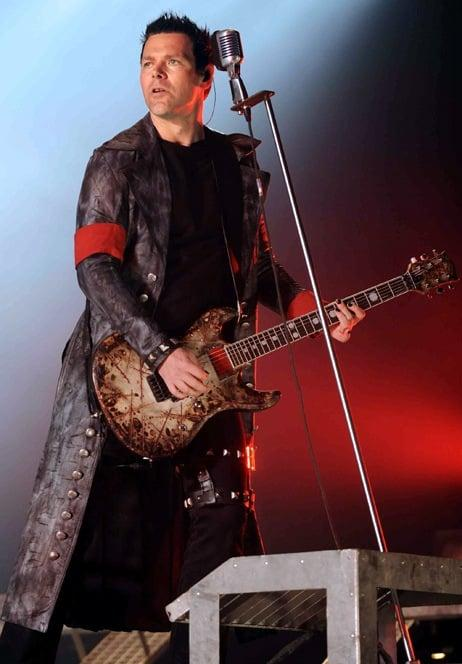acousticguitar: (91, 248, 457, 466)
